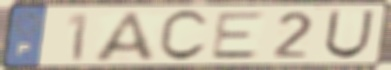1: (65, 11, 91, 63)
2: (270, 10, 316, 60)
A: (90, 10, 160, 64)
C: (155, 8, 212, 63)
E: (207, 10, 269, 61)
U: (321, 9, 377, 60)
